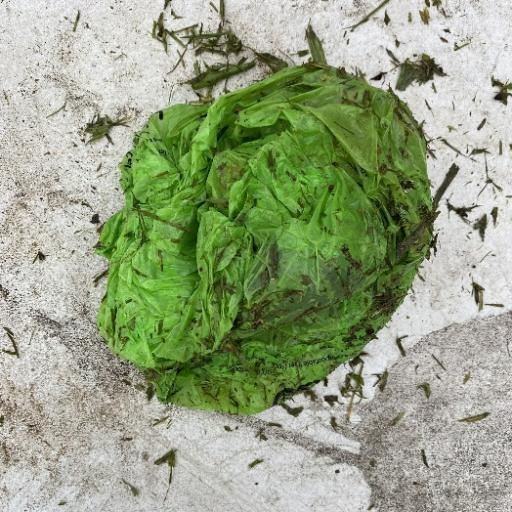Waste: (91, 42, 439, 415)
